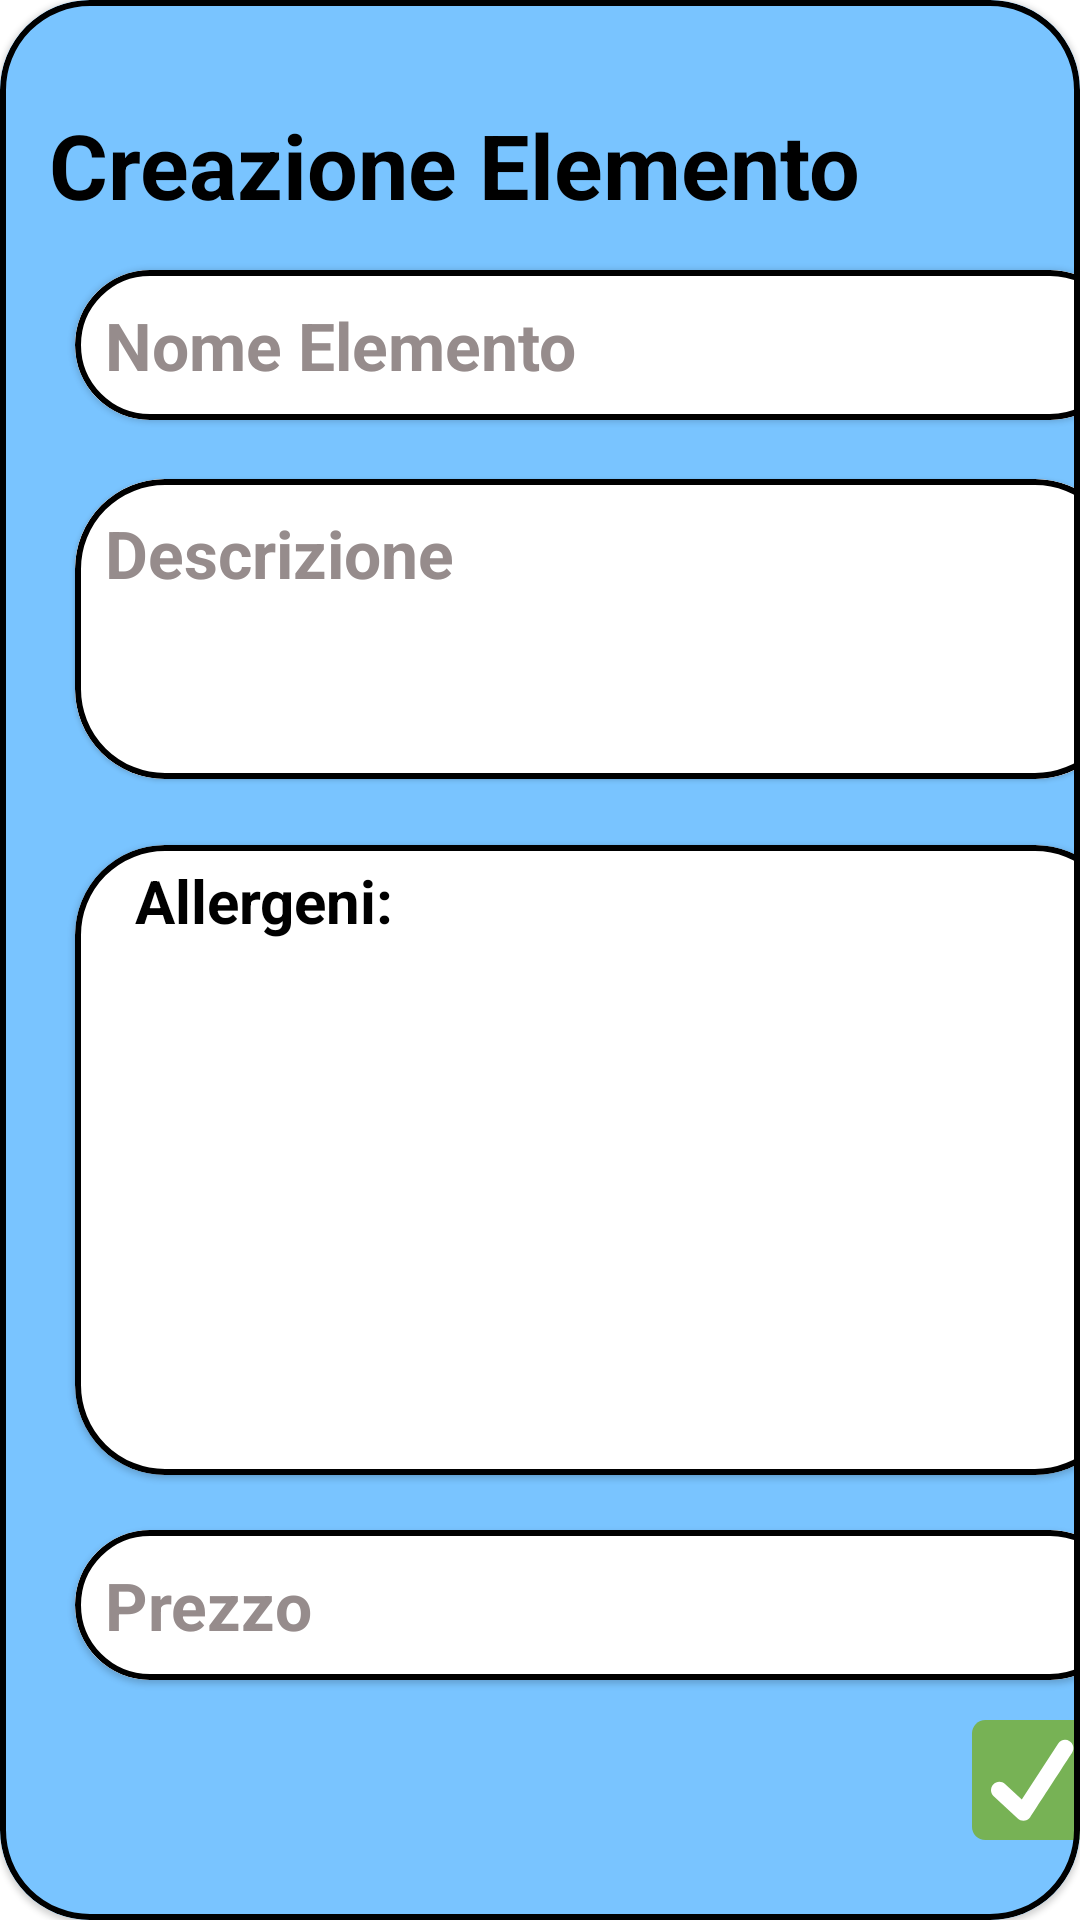

Icons on this 1080 × 1920 Android screen, each with its box as (x1, y1, x2, y2):
confirmvector: (972, 1720, 1080, 1840)
